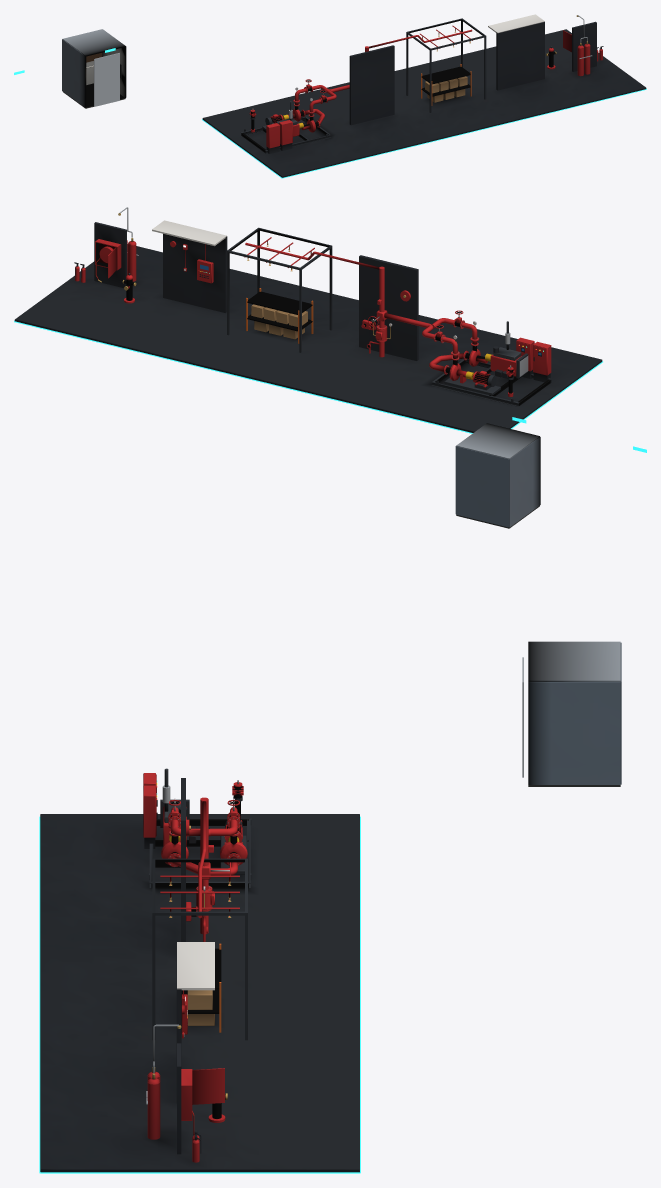
Rendered from ex_fire.glb.
3 renders of one model, top to bottom at view 1: azimuth 30°, elevation 25°; view 2: azimuth 150°, elevation 25°; view 3: azimuth 270°, elevation 25°, orthographic. The views are drawn at different scales.
Parts seen in each view (by area): view 1: static.plinth, static.wall_dark, static.paint_red, lift_cabin.steel, static.paint_dark, lift_cabin.white, static.galv, liftDoorL.steel, accent_strip.accent, static.carton, liftDoorR.steel, static.white; view 2: static.plinth, static.wall_dark, static.paint_red, lift_cabin.steel, static.paint_dark, lift_cabin.white, static.galv, static.carton, static.white, accent_strip.accent; view 3: static.plinth, lift_cabin.steel, static.paint_red, static.paint_dark, lift_cabin.white, static.white, static.wall_dark, accent_strip.accent, static.galv.
Boxes of the visible parts, x1=… form: static.plinth: x1=202, y1=29, x2=646, y2=177; static.wall_dark: x1=349, y1=21, x2=596, y2=125; static.paint_red: x1=249, y1=25, x2=602, y2=148; lift_cabin.steel: x1=62, y1=39, x2=126, y2=107; static.paint_dark: x1=241, y1=18, x2=486, y2=153; lift_cabin.white: x1=63, y1=29, x2=125, y2=56; static.galv: x1=289, y1=15, x2=592, y2=118; liftDoorL.steel: x1=94, y1=56, x2=107, y2=106; accent_strip.accent: x1=202, y1=88, x2=646, y2=178; static.carton: x1=425, y1=76, x2=467, y2=102; liftDoorR.steel: x1=107, y1=53, x2=119, y2=103; static.white: x1=488, y1=14, x2=544, y2=33; static.plinth: x1=14, y1=244, x2=602, y2=432; static.wall_dark: x1=94, y1=222, x2=418, y2=360; static.paint_red: x1=75, y1=237, x2=551, y2=396; lift_cabin.steel: x1=455, y1=437, x2=540, y2=527; static.paint_dark: x1=227, y1=227, x2=551, y2=406; lift_cabin.white: x1=456, y1=423, x2=539, y2=458; static.galv: x1=119, y1=207, x2=528, y2=376; static.carton: x1=251, y1=304, x2=307, y2=339; static.white: x1=152, y1=220, x2=475, y2=339; accent_strip.accent: x1=14, y1=321, x2=602, y2=433; static.plinth: x1=40, y1=814, x2=359, y2=1172; lift_cabin.steel: x1=528, y1=642, x2=621, y2=784; static.paint_red: x1=143, y1=773, x2=247, y2=1162; static.paint_dark: x1=144, y1=796, x2=251, y2=1040; lift_cabin.white: x1=528, y1=641, x2=620, y2=681; static.white: x1=175, y1=799, x2=234, y2=1036; static.wall_dark: x1=176, y1=778, x2=185, y2=1154; accent_strip.accent: x1=39, y1=816, x2=360, y2=1173; static.galv: x1=146, y1=785, x2=221, y2=1104.
Bounding box in the file's own units: 28.32 × 3.78 × 13.85.
